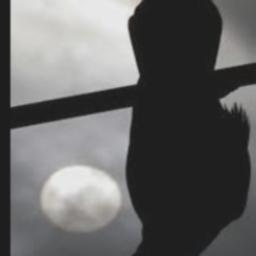Crow: (97, 0, 252, 256)
